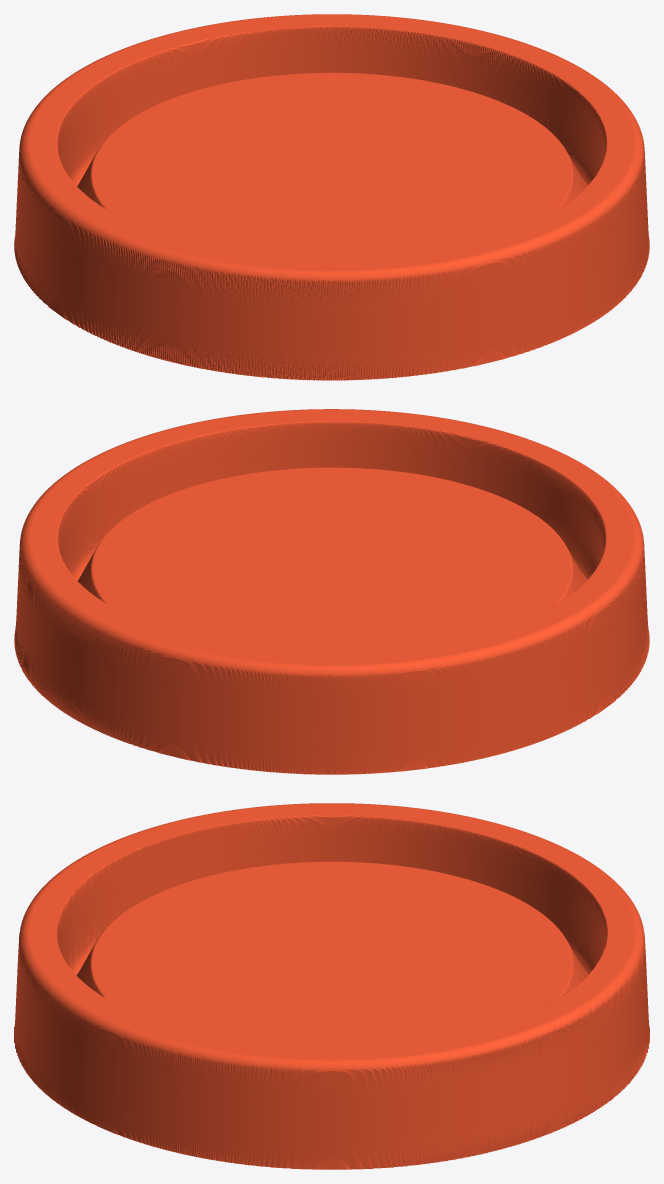
File: mold.glb
3 views of the same model, one above another, from view 1: azimuth 30°, elevation 25°; view 2: azimuth 150°, elevation 25°; view 3: azimuth 270°, elevation 25° (orthographic).
Visible parts, largest first — view 1: geometry_0; view 2: geometry_0; view 3: geometry_0.
Boxes of the visible parts, x1=… form: geometry_0: x1=14, y1=14, x2=649, y2=380; geometry_0: x1=14, y1=409, x2=649, y2=774; geometry_0: x1=14, y1=803, x2=649, y2=1169.
Size of the model in its own units: 0.1473 by 0.0265 by 0.1473.
